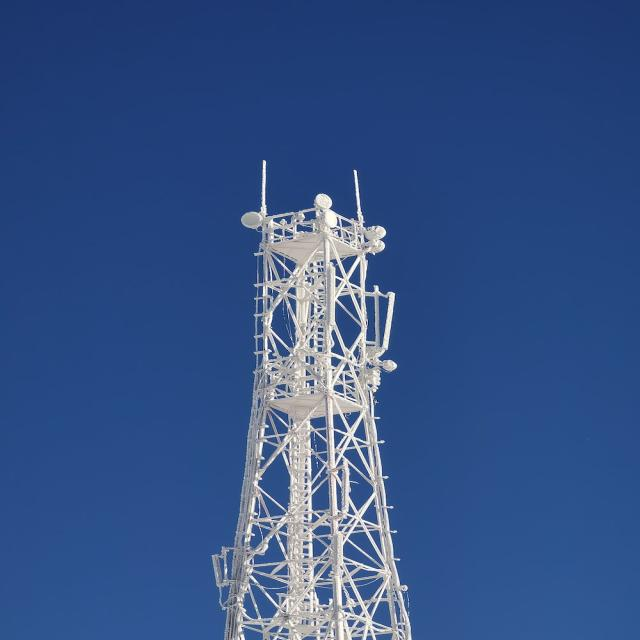transmission tower: (164, 155, 468, 621)
